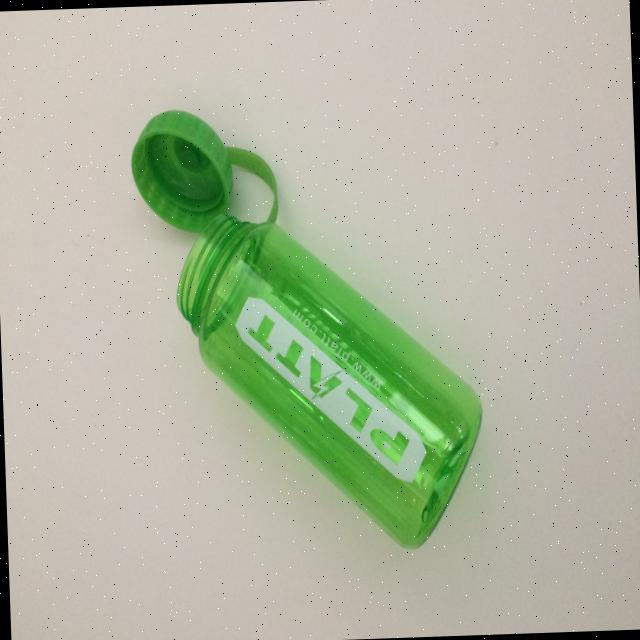plastic: (128, 97, 488, 559)
